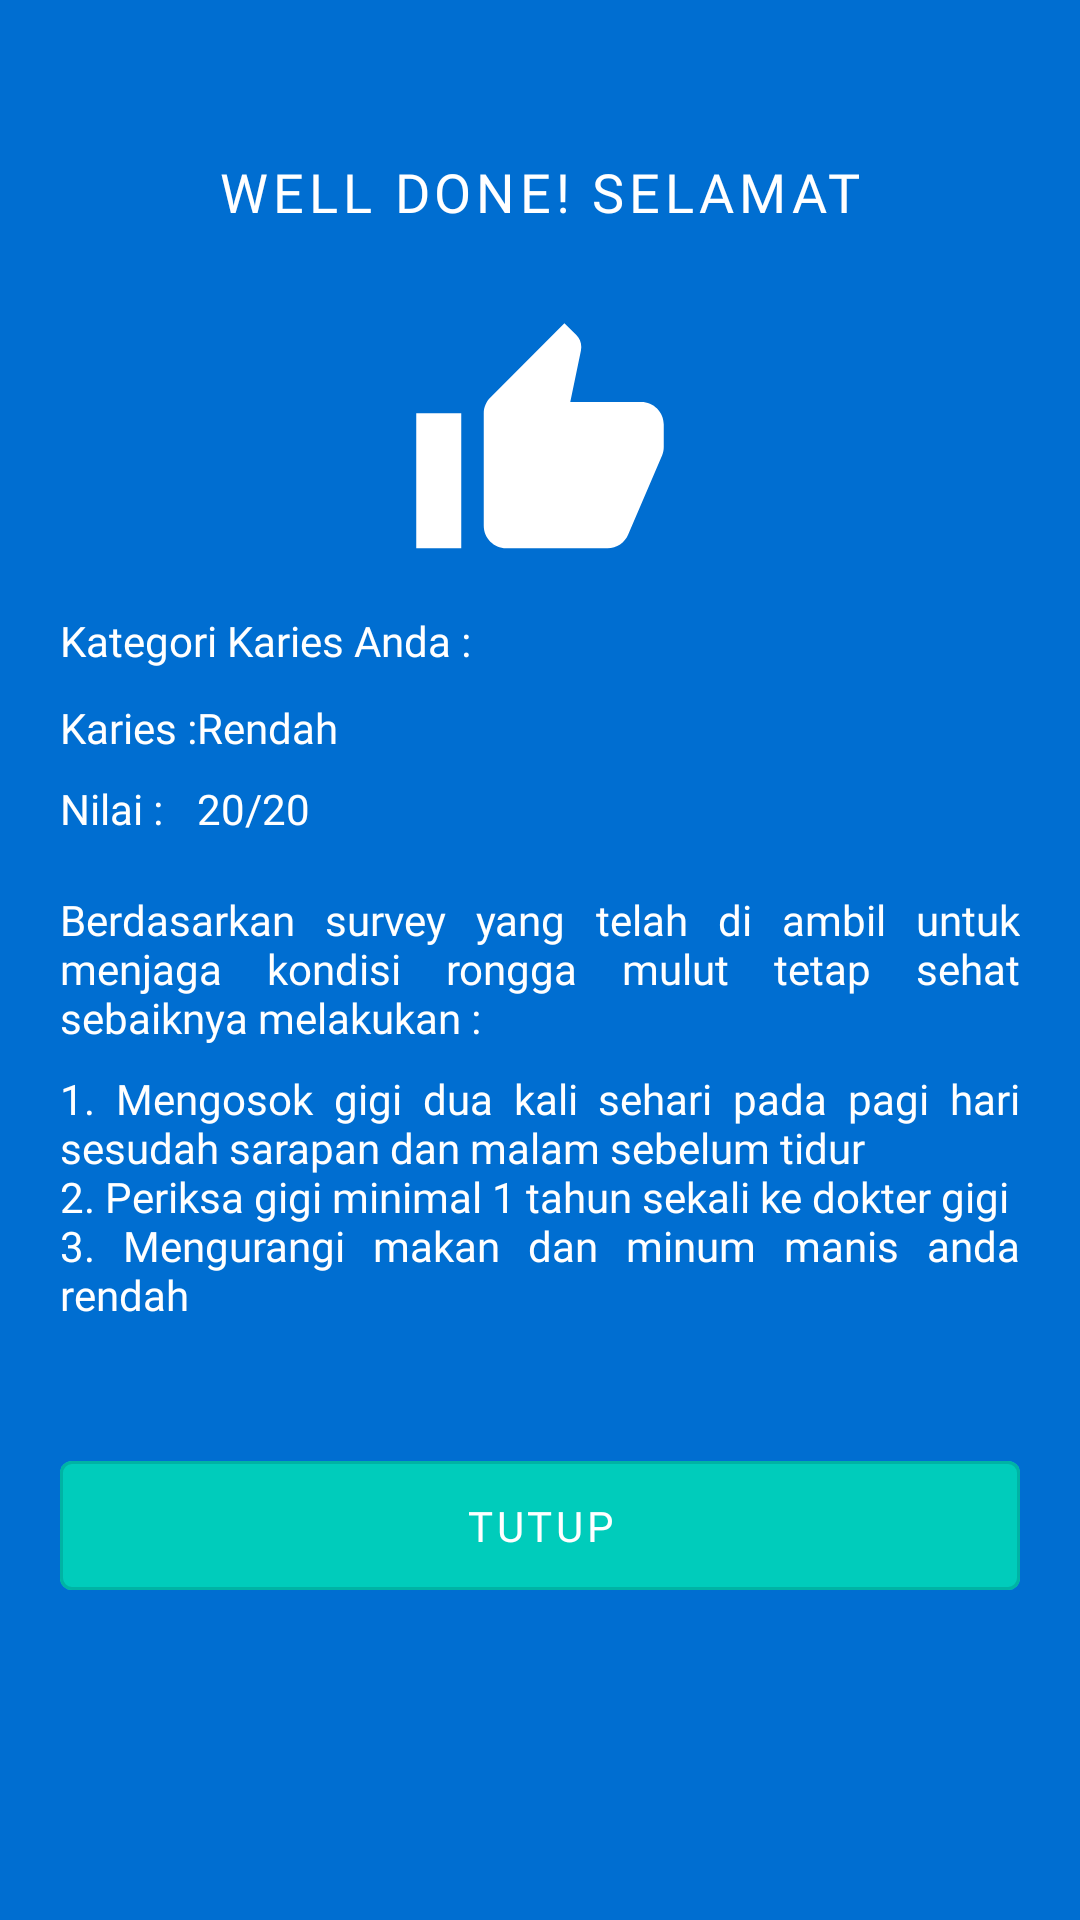

Icons on this 1080×1920 Android screen, each with its box as [x1,y1,x2,y2]:
thumb up: [416,323,664,549]
